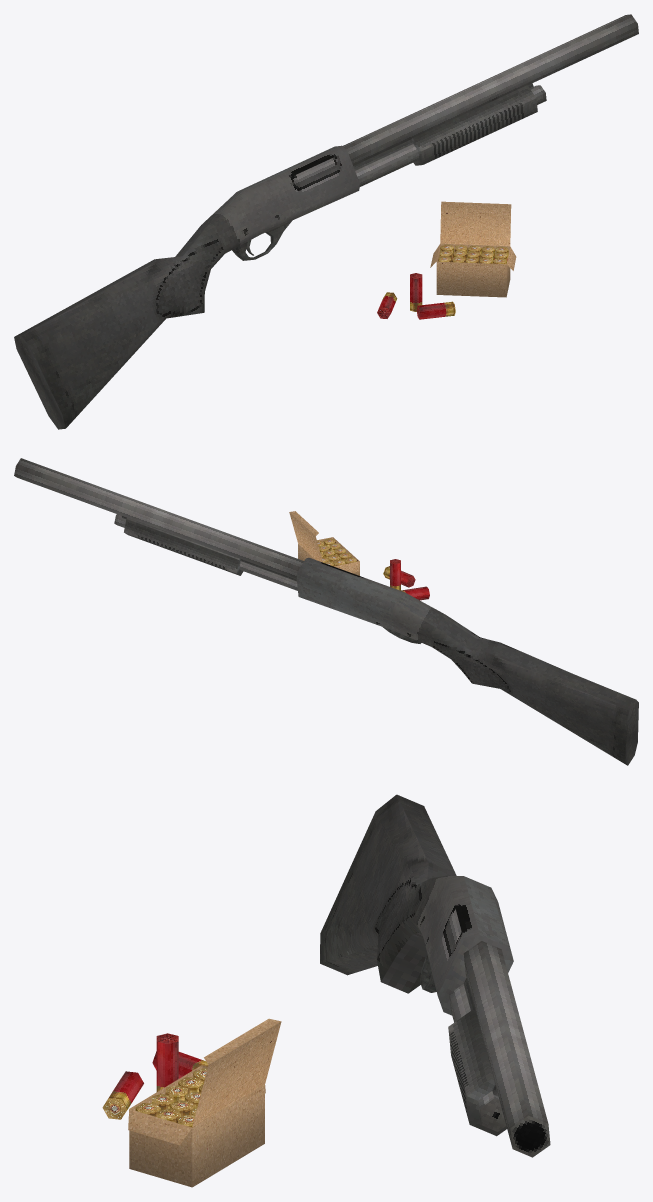
File: fbxshotgun.glb
The picture shows the model from 3 angles, top to bottom: view 1: azimuth 30°, elevation 25°; view 2: azimuth 150°, elevation 25°; view 3: azimuth 270°, elevation 25°; orthographic projection. The views are drawn at different scales.
Parts seen in each view (by area): view 1: Shotgun, Barrel.001, Forend.001, AmmoBox1, AmmoBox, Magazine Tube.001, Shells.001, Shells; view 2: Shotgun, Barrel.001, Forend.001, Magazine Tube.001, AmmoBox1, Shells.001, Shells; view 3: Shotgun, Barrel.001, AmmoBox, AmmoBox1, Forend.001, Shells.001, Shells, Magazine Tube.001, AmmoBox2, Shell.
Part boxes in pixels (bbox=[...]): Shotgun: bbox=[14, 145, 359, 429]; Barrel.001: bbox=[343, 14, 638, 165]; Forend.001: bbox=[411, 85, 537, 165]; AmmoBox1: bbox=[440, 201, 511, 246]; AmmoBox: bbox=[436, 243, 510, 297]; Magazine Tube.001: bbox=[353, 83, 546, 186]; Shells.001: bbox=[438, 244, 508, 264]; Shells: bbox=[377, 292, 455, 319]; Shotgun: bbox=[296, 557, 638, 765]; Barrel.001: bbox=[14, 458, 303, 579]; Forend.001: bbox=[124, 518, 243, 575]; Magazine Tube.001: bbox=[114, 514, 297, 590]; AmmoBox1: bbox=[289, 511, 322, 562]; Shells.001: bbox=[306, 538, 356, 566]; Shells: bbox=[383, 566, 429, 600]; Shotgun: bbox=[320, 794, 513, 1015]; Barrel.001: bbox=[463, 941, 550, 1157]; AmmoBox: bbox=[129, 1065, 264, 1187]; AmmoBox1: bbox=[192, 1018, 281, 1126]; Forend.001: bbox=[448, 1009, 506, 1136]; Shells.001: bbox=[135, 1068, 210, 1127]; Shells: bbox=[102, 1051, 208, 1119]; Magazine Tube.001: bbox=[449, 978, 506, 1131]; AmmoBox2: bbox=[128, 1085, 265, 1145]; Shell: bbox=[156, 1033, 178, 1091].
Size of the model in its own units: 4.91 by 1.63 by 1.63.
2 materials, 2 textured.
